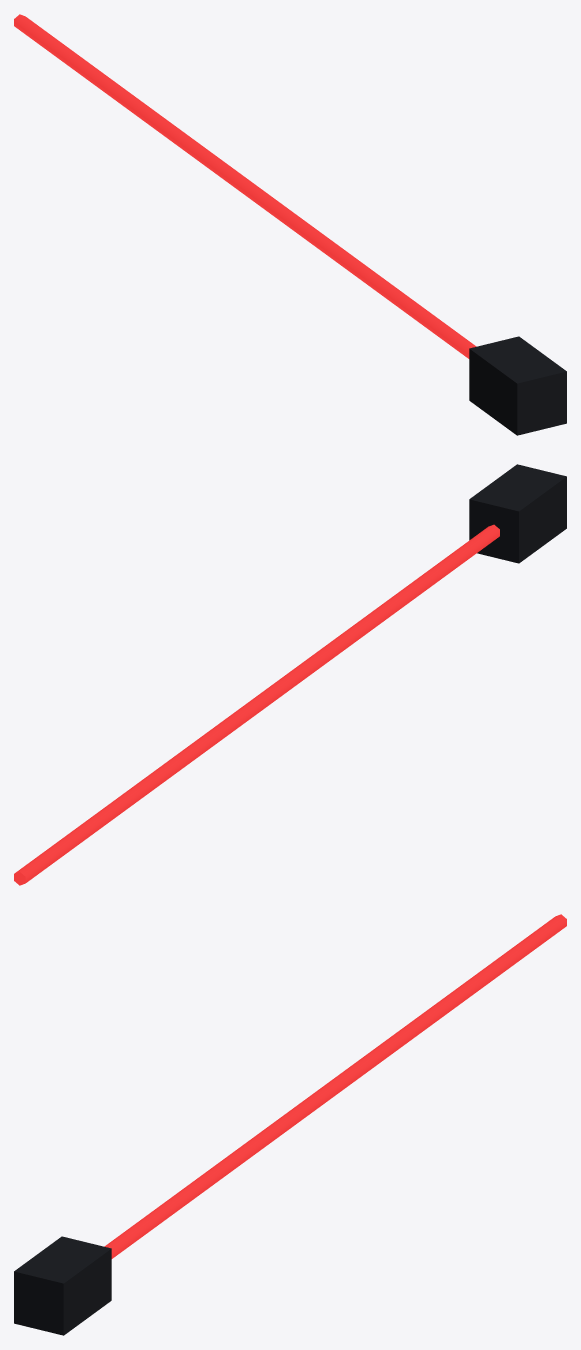
The model's file is attachment_sniper_laser.glb.
3 renders of one model, top to bottom at view 1: azimuth 30°, elevation 25°; view 2: azimuth 150°, elevation 25°; view 3: azimuth 330°, elevation 25°, orthographic.
Visible parts, largest first — view 1: attachment_sniper_laser__part_2, attachment_sniper_laser__part_1; view 2: attachment_sniper_laser__part_2, attachment_sniper_laser__part_1; view 3: attachment_sniper_laser__part_2, attachment_sniper_laser__part_1.
Part boxes in pixels (x1,y1,x2,y2): attachment_sniper_laser__part_2: [14, 14, 476, 358]; attachment_sniper_laser__part_1: [469, 336, 566, 435]; attachment_sniper_laser__part_2: [14, 524, 499, 885]; attachment_sniper_laser__part_1: [469, 464, 566, 563]; attachment_sniper_laser__part_2: [104, 914, 566, 1258]; attachment_sniper_laser__part_1: [14, 1236, 111, 1335].
Size of the model in its own units: 0.03 by 0.03 by 0.545.
